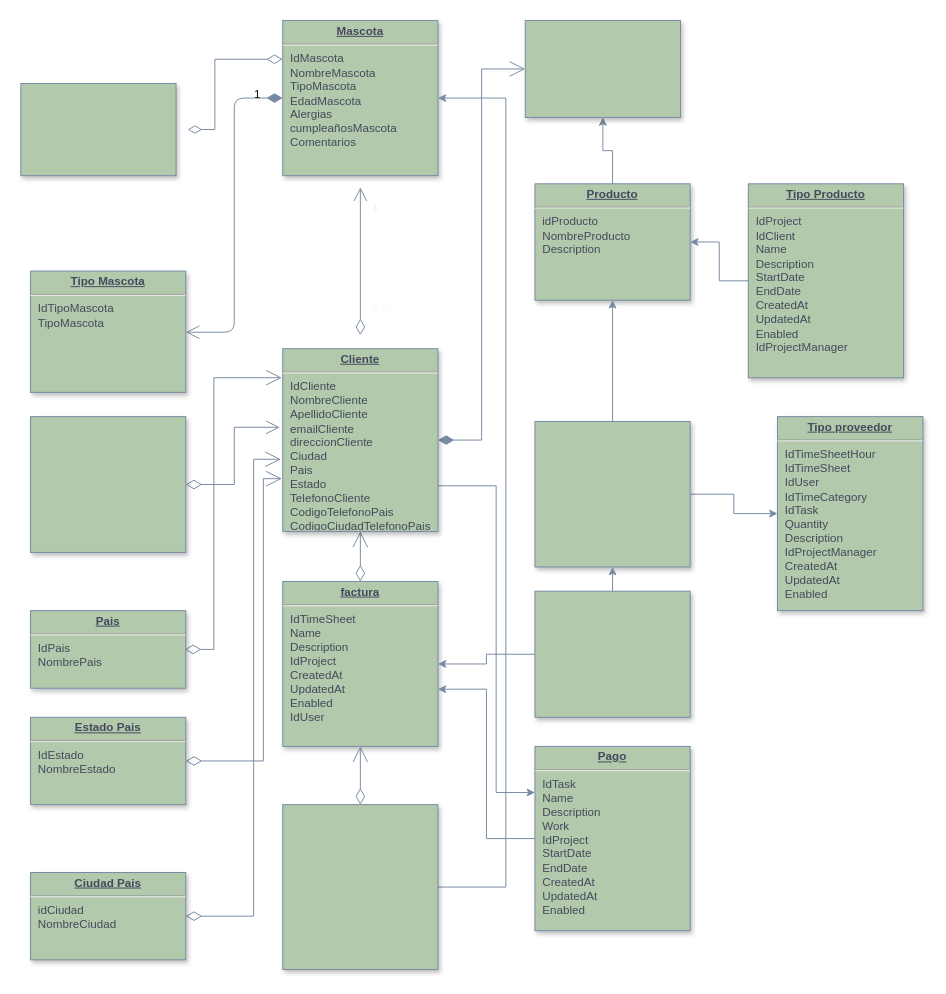
Some shapes in this 946 by 994 pixel diagram are drawn without their labels. The shapes that lost their labels are listed below. From the top down, each one's centre as x and y in pixels, then its label:
the point at 603,70: Tipo de plan IdUserProjectRole IdRole IdProject IdUser
the point at 99,130: Tipo Alergias IdTimeSheetCostCenter IdTimeSheet IdCostCenter
the point at 109,485: Codigo Pais IdCostCenter Name Description CreatedAt UpdatedAt Enabled
the point at 613,495: Proveedor IdClient IdCompany Name Description CreatedAt UpdatedAt Enabled
the point at 613,655: envio IdTimeCategory Name Description CreatedAt UpdatedAt Enabled
the point at 361,888: fecha IdTimeSheet Name Description IdProject CreatedAt UpdatedAt Enabled IdUser
